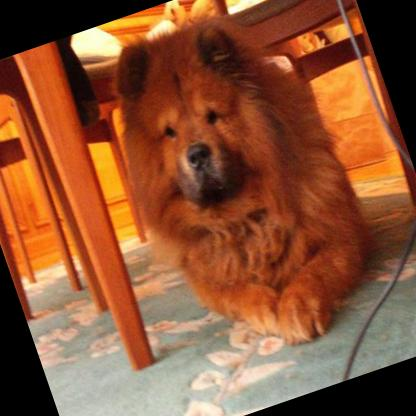chow: (84, 0, 400, 383)
